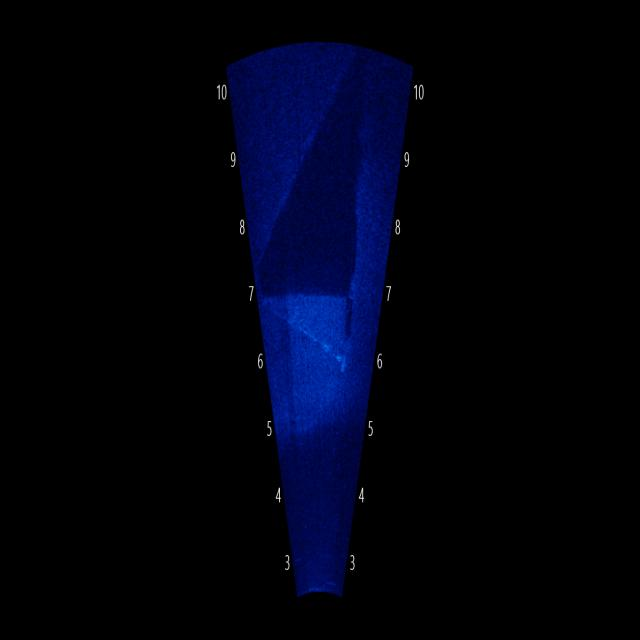triangle: (261, 269, 362, 385)
